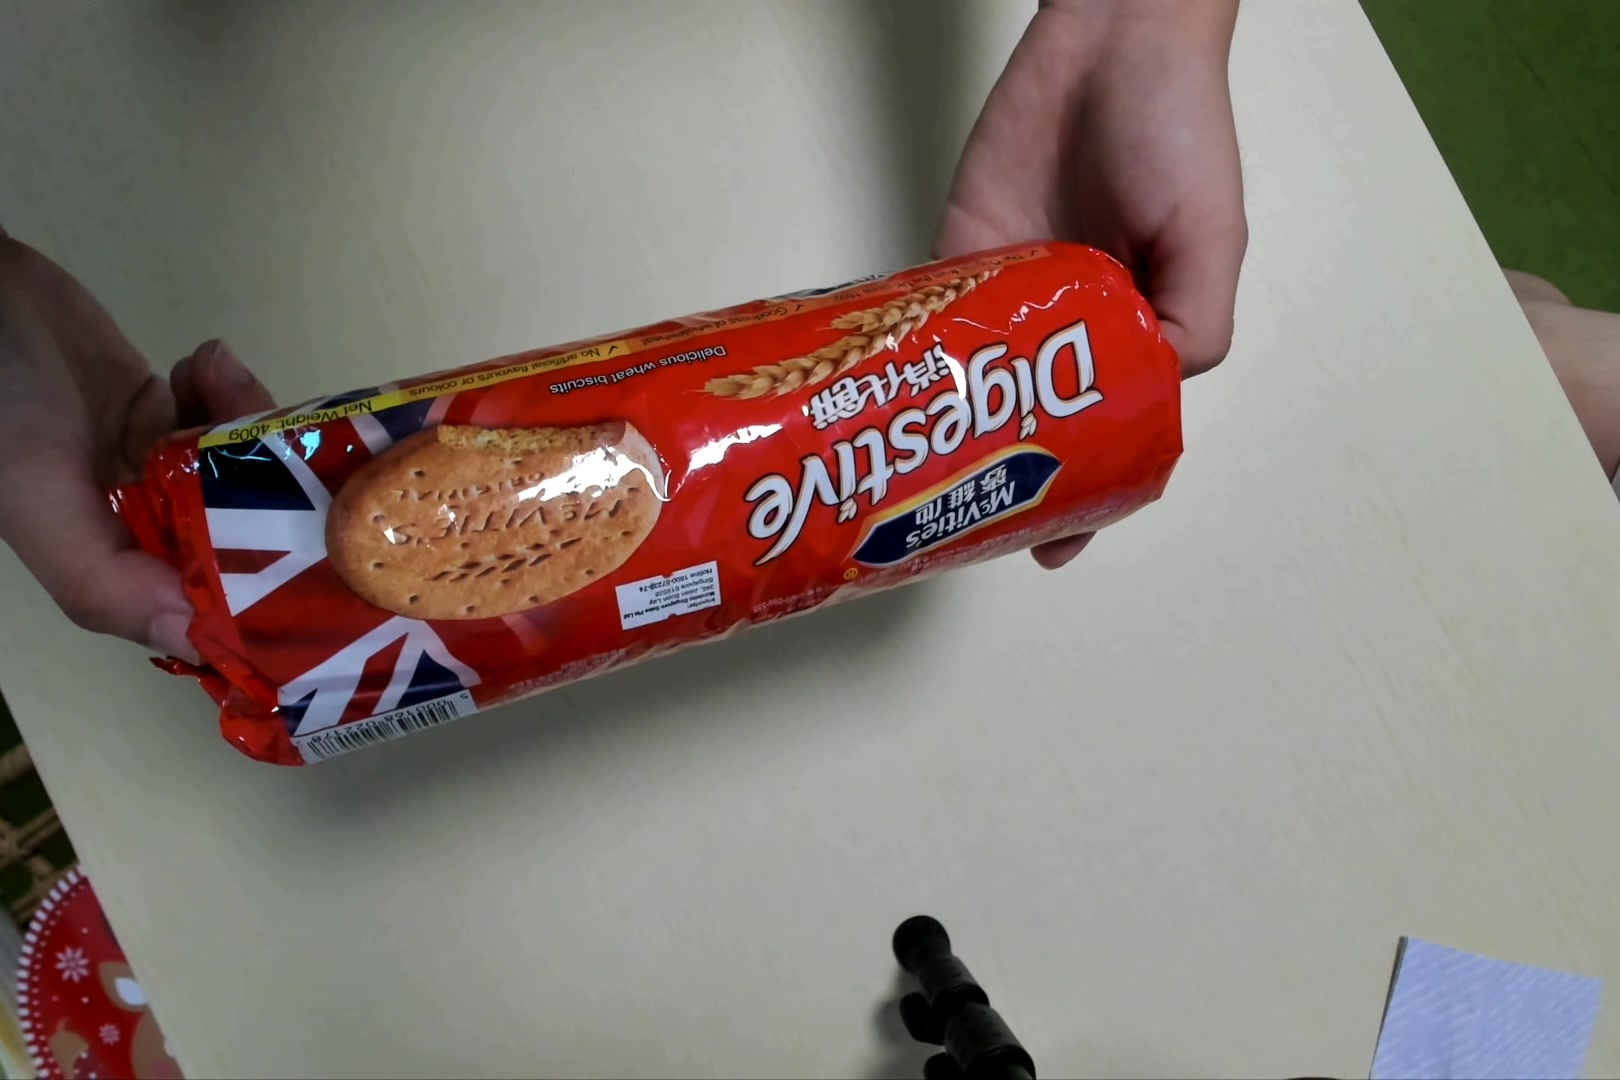BiscuitsCrackersCookies_400-499g_NonHalal_NonHealthy: (136, 240, 1182, 780)
